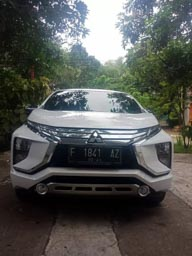plat: (67, 145, 122, 158)
